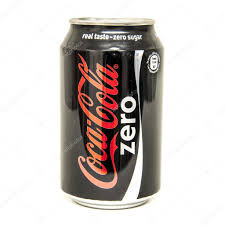can: (57, 15, 164, 214)
